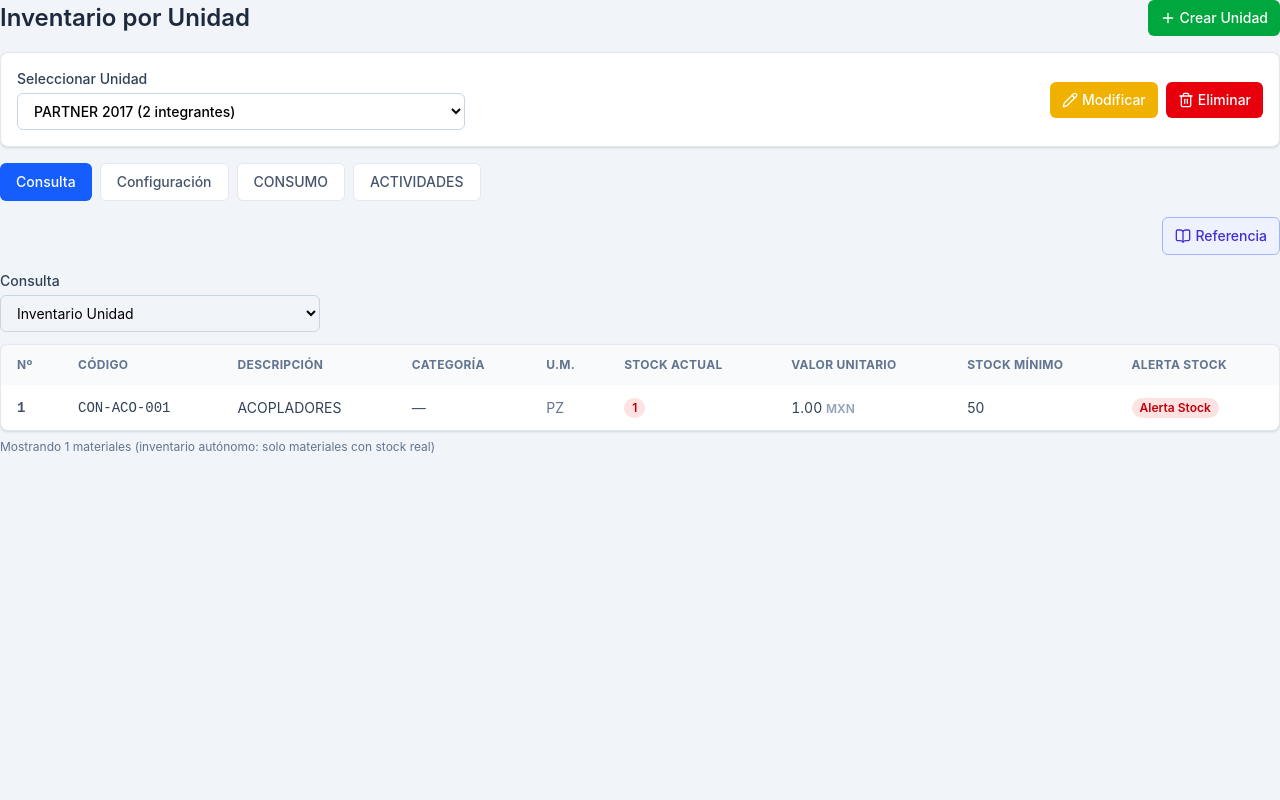
Test case: Inventario por Unidad — nomenclatura (RF-1..RF-3) › RF-3 REQ-UNI-003: el modal usa "Modificar Unidad" y "Nombre por Unidad"
The width and height of the screenshot is (1280, 800).
Click the button "Modificar" at [1104, 100], box [1050,82,1158,118]
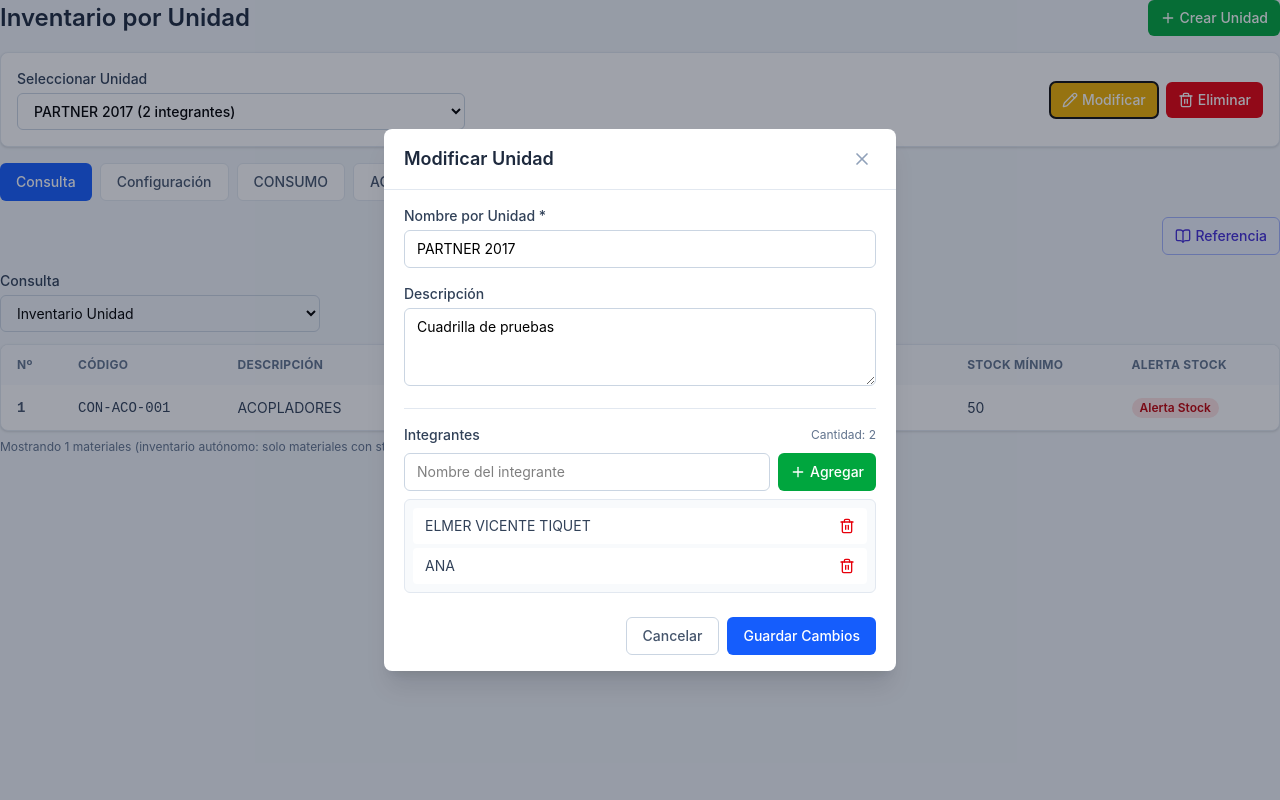
Check: the heading "Modificar Unidad" is shown, box [404,145,554,173]
Check: the text "Nombre por Unidad *" is shown, box [404,207,546,224]
